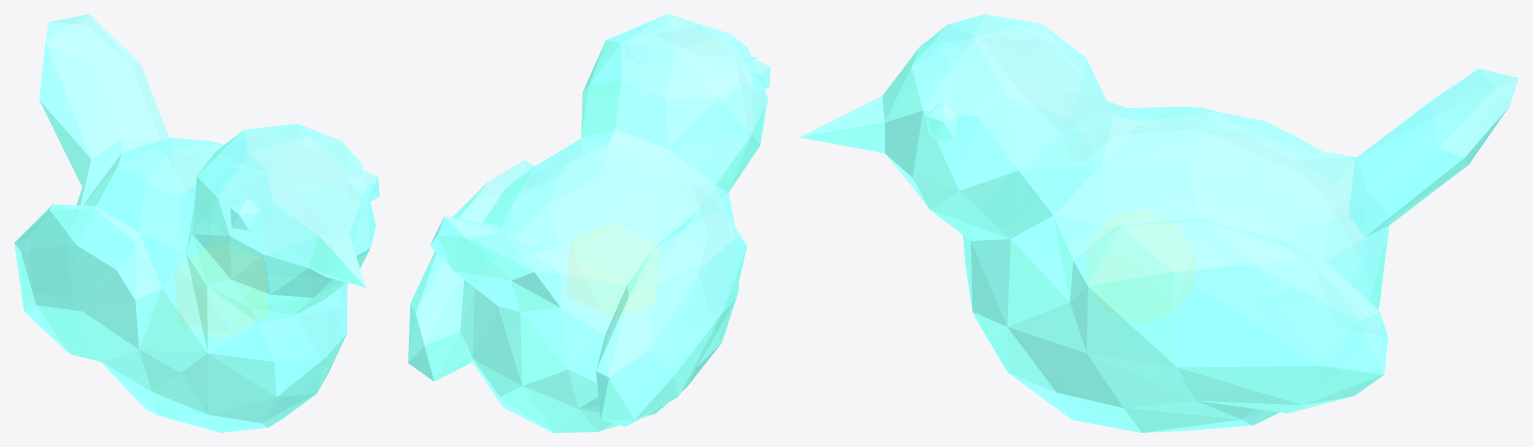
Rendered from held_glass_bird.glb.
The picture shows the model from 3 angles, left to right: view 1: azimuth 30°, elevation 25°; view 2: azimuth 150°, elevation 25°; view 3: azimuth 270°, elevation 25°; orthographic projection. The views are drawn at different scales.
Parts seen in each view (by area): view 1: GlassBird, GlassBirdCore; view 2: GlassBird, GlassBirdCore; view 3: GlassBird, GlassBirdCore.
Boxes of the visible parts, box(x1,y1,x2,y2) form: GlassBird: box(14, 14, 379, 432); GlassBirdCore: box(174, 246, 268, 339); GlassBird: box(408, 14, 770, 432); GlassBirdCore: box(568, 223, 660, 316); GlassBird: box(799, 14, 1518, 432); GlassBirdCore: box(1086, 215, 1193, 318).
Bounding box in the file's own units: 0.3345 × 0.4301 × 0.72.
